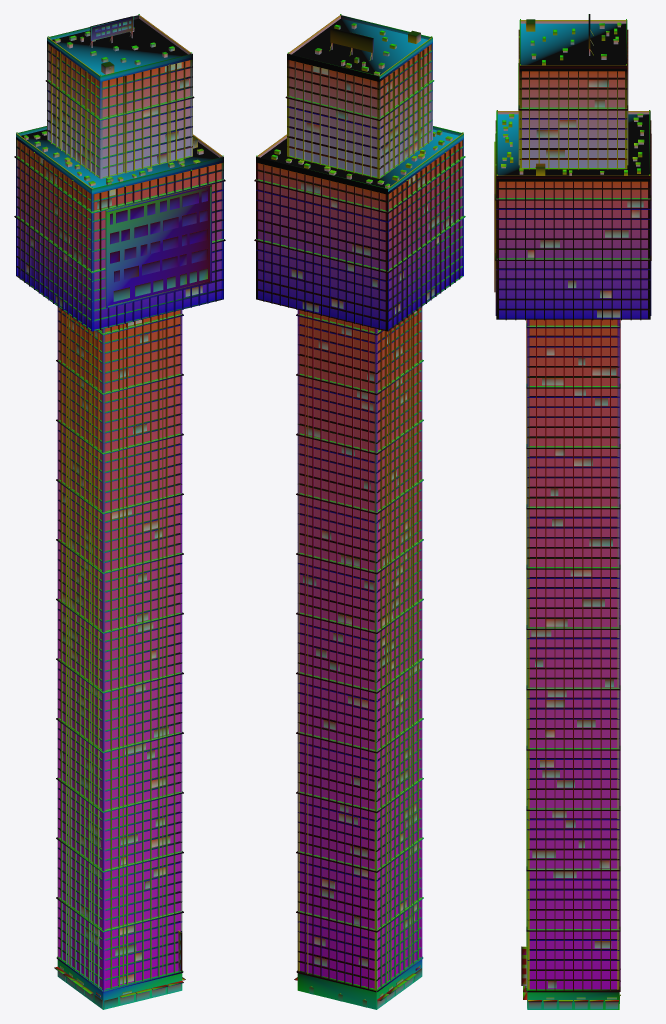
Rendered from Tower_Crown_V6.fbx.
3 views of the same model, side by side, from view 1: azimuth 30°, elevation 25°; view 2: azimuth 150°, elevation 25°; view 3: azimuth 270°, elevation 25° (orthographic).
Visible parts, largest first — view 1: Tower_Crown_V6_LOD0; view 2: Tower_Crown_V6_LOD0; view 3: Tower_Crown_V6_LOD0.
Part boxes in pixels (bbox=[...]): Tower_Crown_V6_LOD0: bbox=[14, 14, 225, 1009]; Tower_Crown_V6_LOD0: bbox=[254, 14, 465, 1009]; Tower_Crown_V6_LOD0: bbox=[494, 14, 651, 1009].
Size of what is drawn, in the model's own units: 50.7 by 346 by 51.02.
